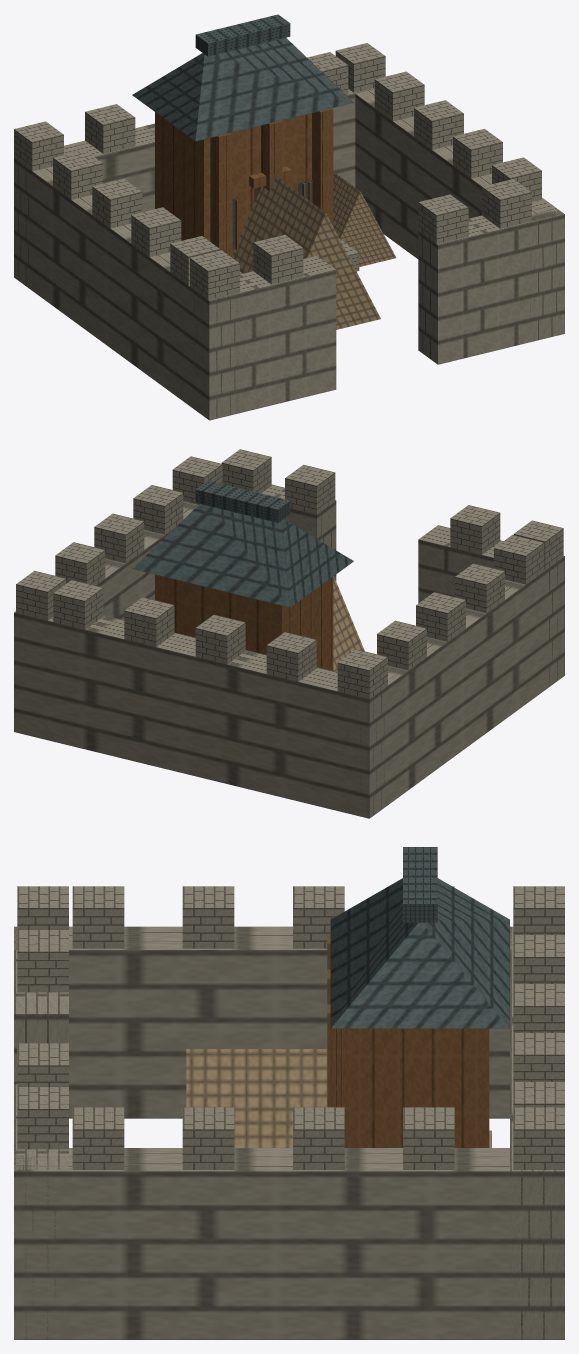
File: military-FORTRESS-1-lod0.glb
The picture shows the model from 3 angles, top to bottom: view 1: azimuth 30°, elevation 25°; view 2: azimuth 150°, elevation 25°; view 3: azimuth 270°, elevation 25°; orthographic projection. The views are drawn at different scales.
Size of the model in its own units: 0.84 by 0.548 by 0.8.
Materials: 1 (1 with a texture image).
